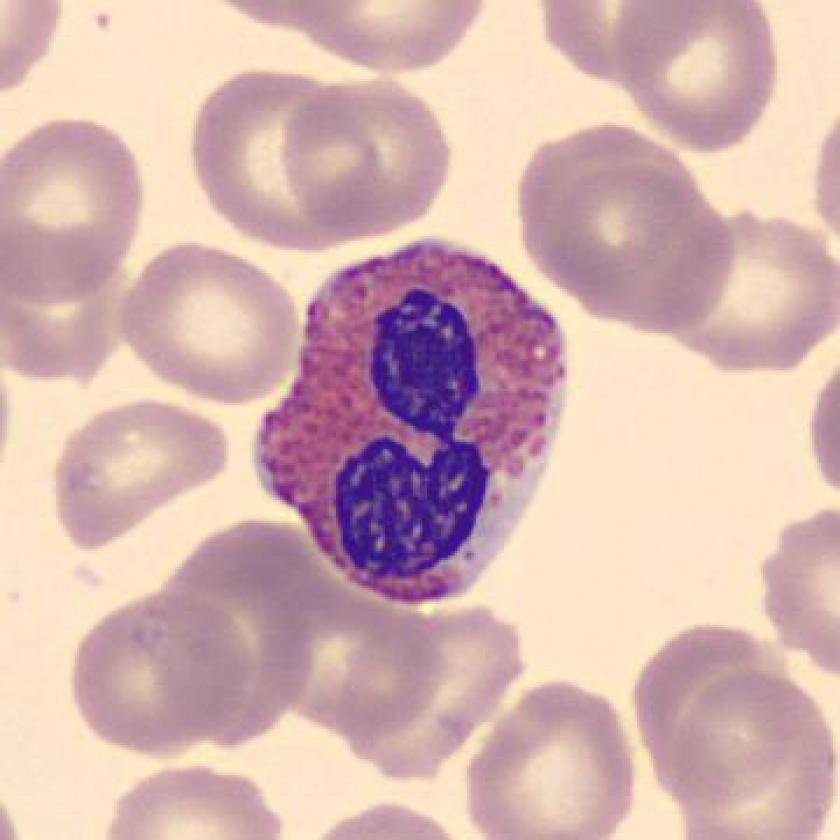eosinophil: (241, 228, 587, 621)
